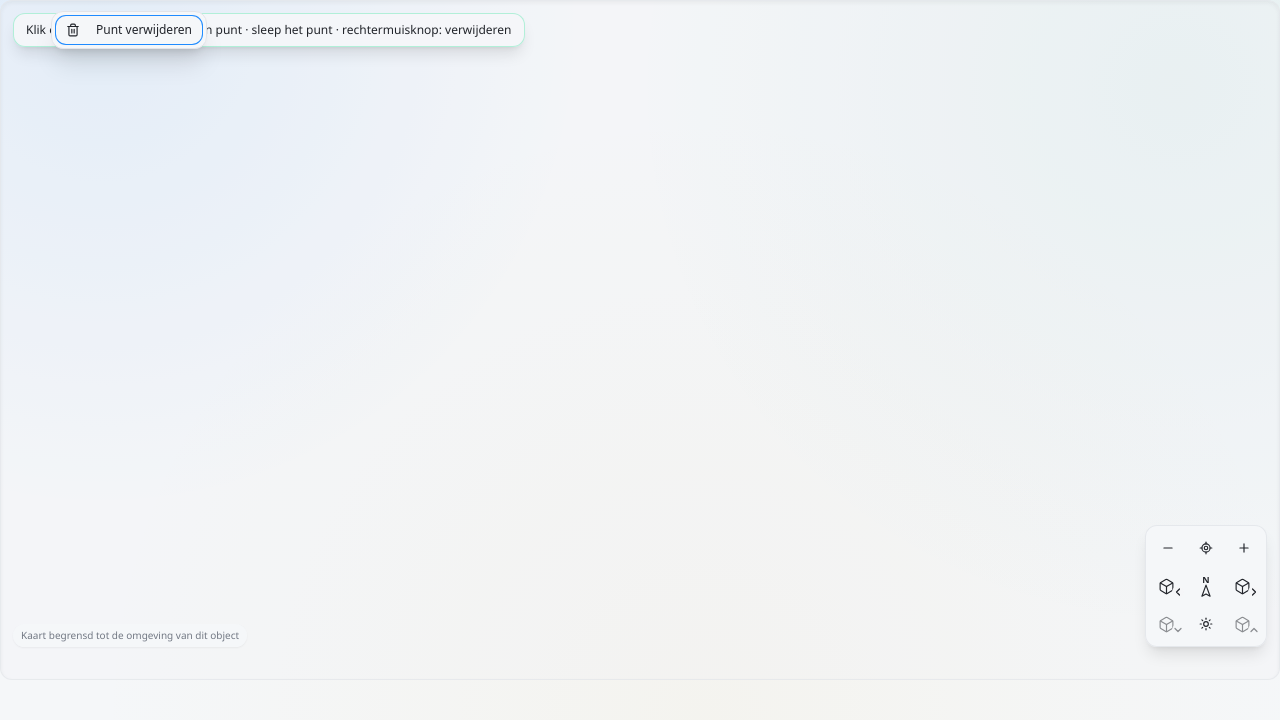
Test case: ObjectMapCanvas › verwijdert een door de gebruiker gemaakt punt via een rechtermuisknopmenu
Expected: the menu named "Grenspunt" is shown, [51, 11, 207, 49]
Click the menu item "Punt verwijderen".
click(129, 30)  # box [56, 16, 202, 44]
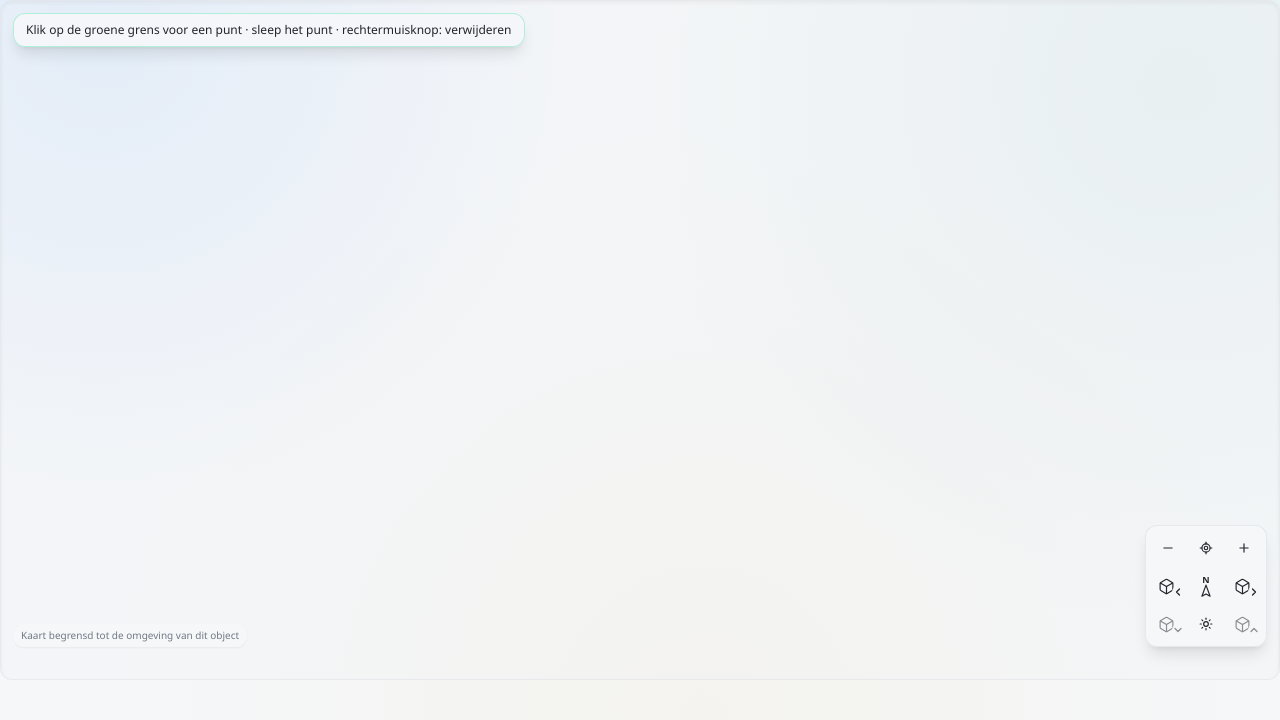
Now the menu is gone
